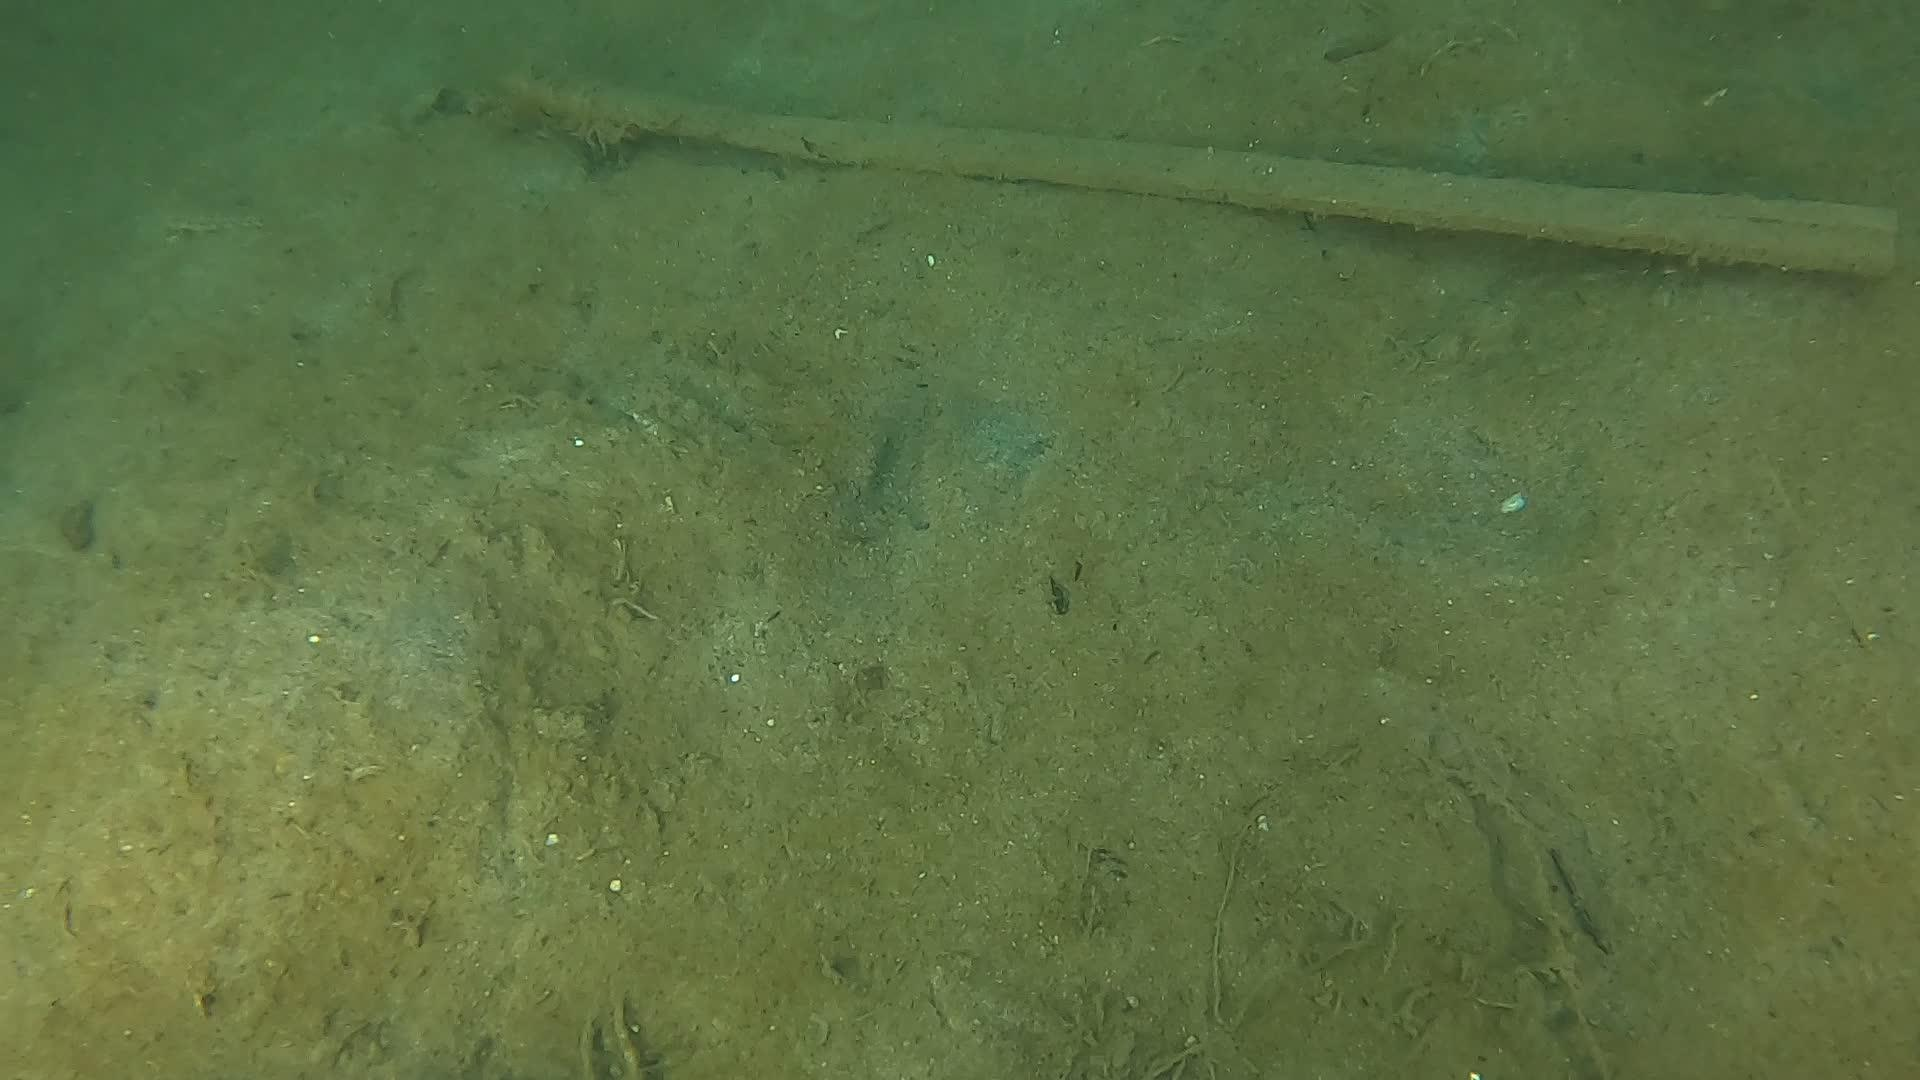wood: (498, 73, 1902, 280)
